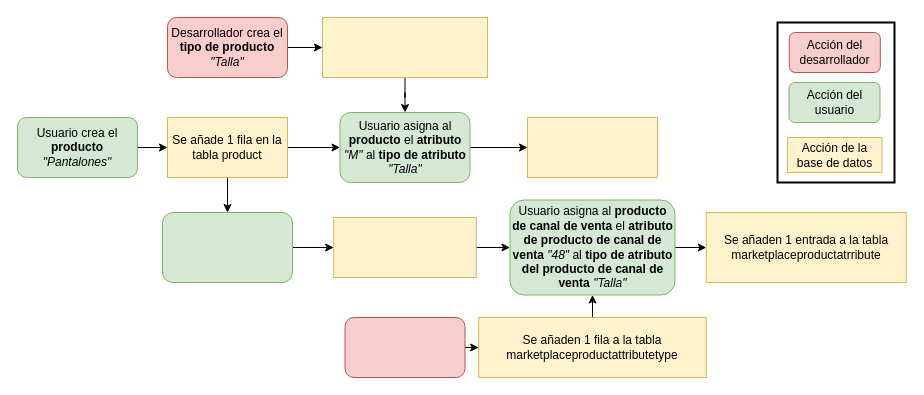
The diagram is 924 pixels wide and 395 high, and some of its shapes have lost their labels. The centre of each missing label's shape, as x and y in pixels:
Desarrollador crea el tipo de atributo del producto de canal de venta "Talla": pixel 404 347
Se añade 1 fila a la tabla productattributetype: pixel 405 47
Se añade 1 fila en la tabla marketplaceproduct: pixel 404 247
Se añaden 1 fila a la tabla productatrribute: pixel 592 147
Usuario asigna el producto "Pantalones" al canal de venta "Amazon": pixel 227 247
